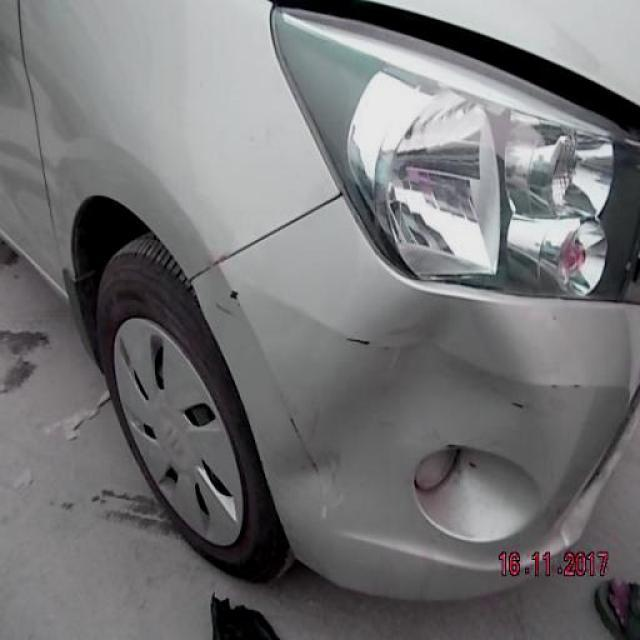Car-Damage: (339, 310, 523, 436)
